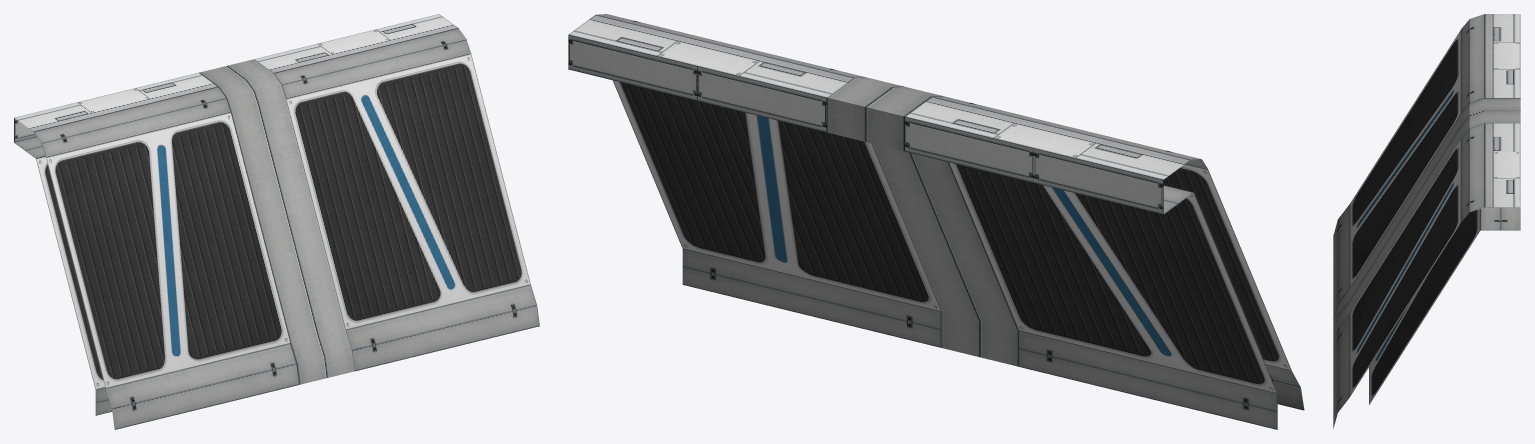
The model's file is Ext_Window_Close_01.FBX.
3 renders of one model, left to right at view 1: azimuth 30°, elevation 25°; view 2: azimuth 150°, elevation 25°; view 3: azimuth 270°, elevation 25°, orthographic. The views are drawn at different scales.
Parts seen in each view (by area): view 1: Ext_Window_Close_01; view 2: Ext_Window_Close_01; view 3: Ext_Window_Close_01.
Part boxes in pixels (box(x1,y1,x2,y2)): Ext_Window_Close_01: box(14, 14, 539, 429); Ext_Window_Close_01: box(568, 14, 1304, 429); Ext_Window_Close_01: box(1333, 14, 1520, 428).
Size of the model in its own units: 560 by 300 by 230.
